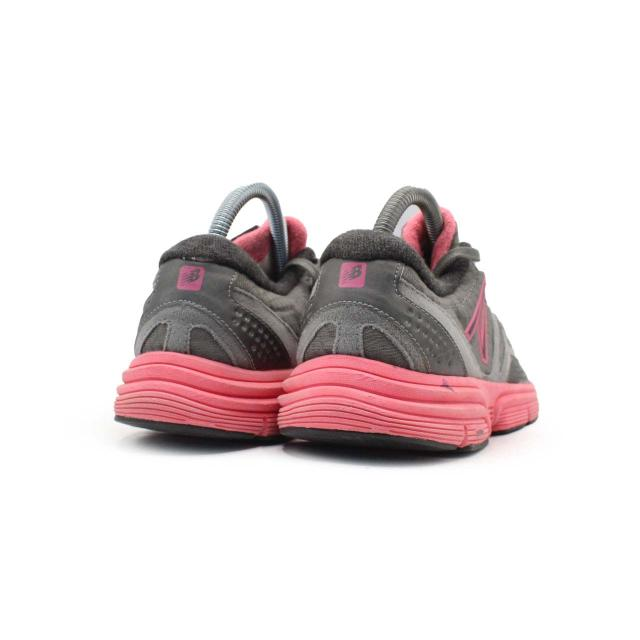heel: (297, 235, 460, 372), (134, 233, 289, 366)
midsole: (277, 354, 534, 453), (111, 351, 292, 442)
